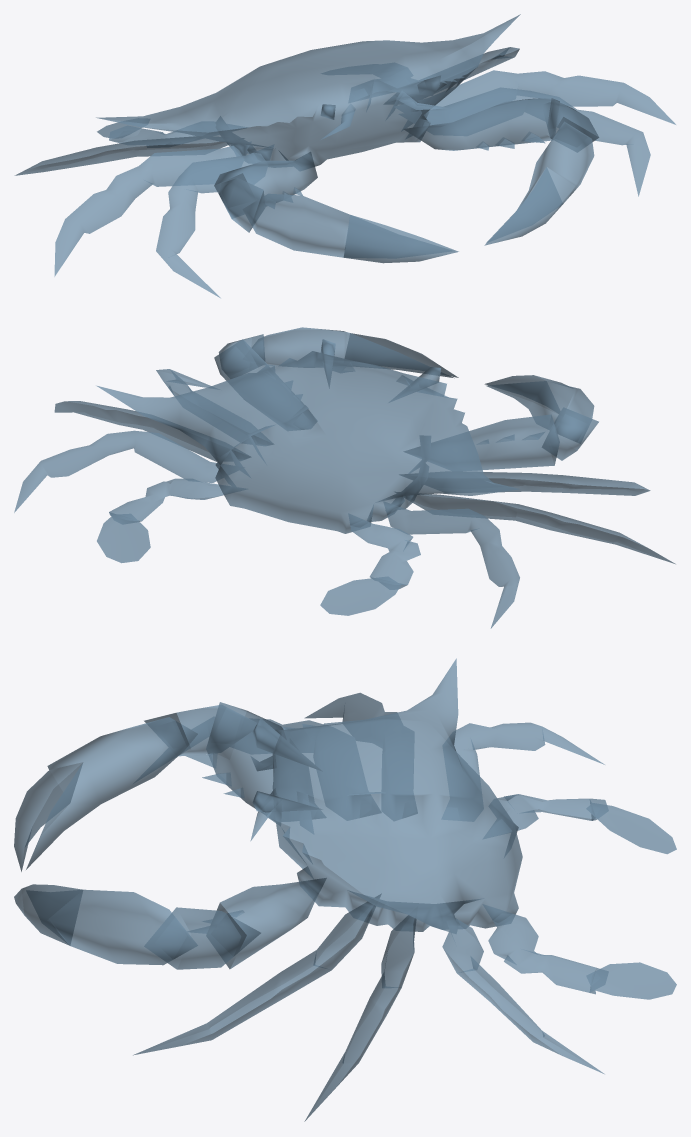
Rendered from gazami-crab.glb.
3 views of the same model, one above another, from view 1: azimuth 30°, elevation 25°; view 2: azimuth 150°, elevation 25°; view 3: azimuth 270°, elevation 25° (orthographic). The views are drawn at different scales.
Bounding box in the file's own units: 7.56 × 1.51 × 5.24.
